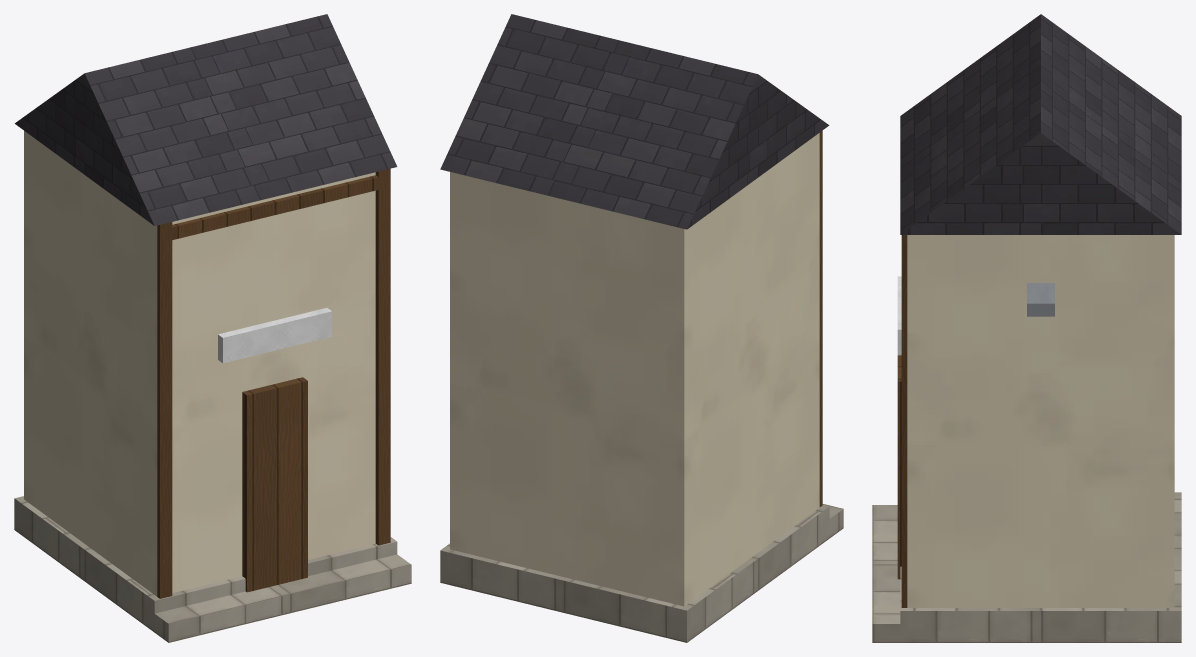
File: category.bridge.t3.glb
3 renders of one model, left to right at view 1: azimuth 30°, elevation 25°; view 2: azimuth 150°, elevation 25°; view 3: azimuth 270°, elevation 25°, orthographic.
Visible parts, largest first — view 1: building.category.bridge.t3; view 2: building.category.bridge.t3; view 3: building.category.bridge.t3.
Boxes of the visible parts, <box> form: building.category.bridge.t3: <box>14,14,411,642</box>; building.category.bridge.t3: <box>440,14,843,642</box>; building.category.bridge.t3: <box>872,14,1181,642</box>.
Size of the model in its own units: 2.3 by 4 by 2.2.
Materials: 6 (6 with a texture image).
